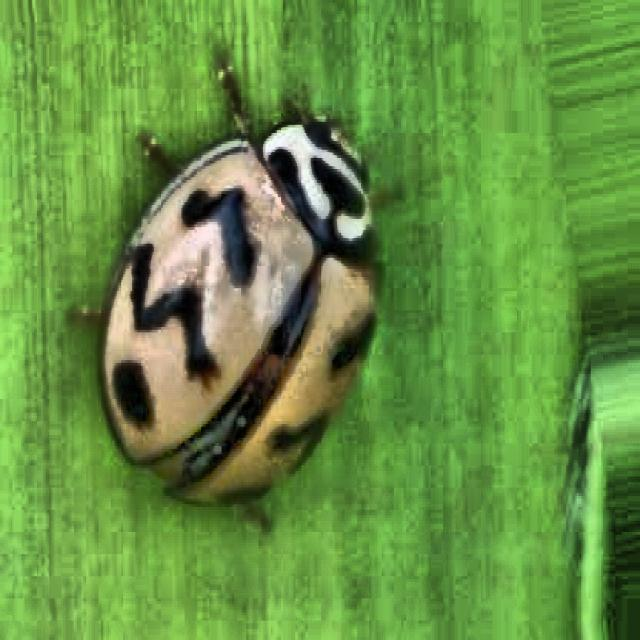Asian-Lady-beetle: (25, 61, 640, 640)
